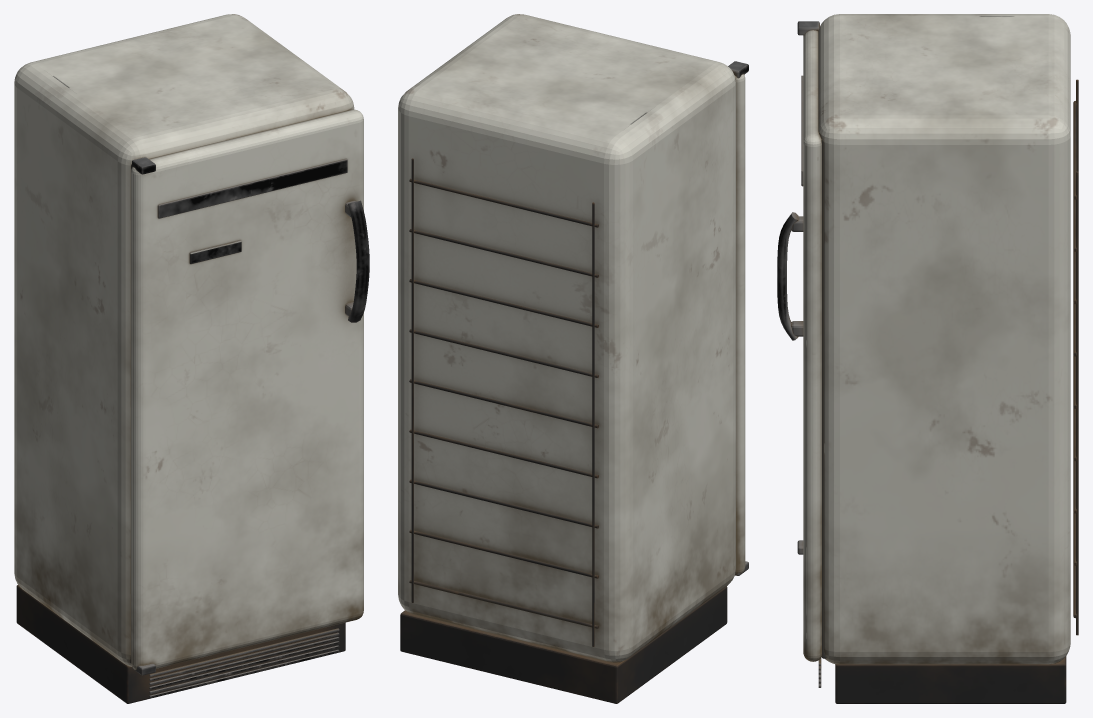
File: Fridge.fbx
3 views of the same model, side by side, from view 1: azimuth 30°, elevation 25°; view 2: azimuth 150°, elevation 25°; view 3: azimuth 270°, elevation 25° (orthographic). The views are drawn at different scales.
Parts seen in each view (by area): view 1: Fridge_Mesh; view 2: Fridge_Mesh; view 3: Fridge_Mesh.
Boxes of the visible parts, x1,y1,x2,y2 form: Fridge_Mesh: [14, 14, 369, 703]; Fridge_Mesh: [398, 14, 748, 703]; Fridge_Mesh: [777, 14, 1078, 703].
Size of the model in its own units: 0.63 by 1.45 by 0.679.
